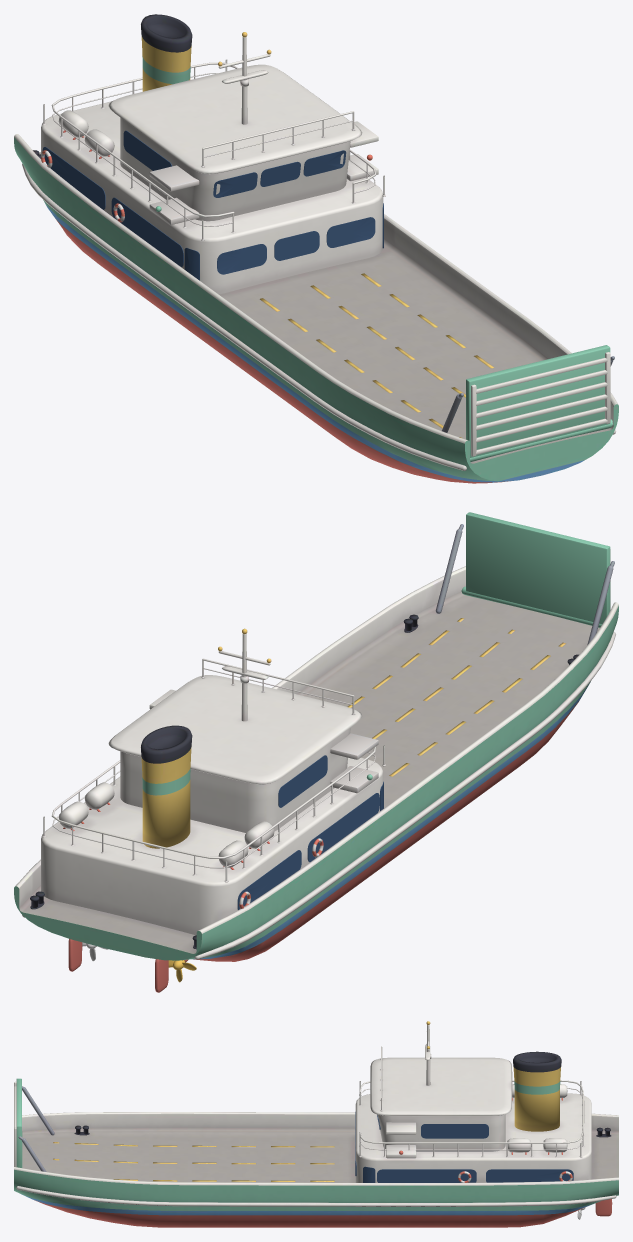
Rendered from ferry.glb.
The picture shows the model from 3 angles, top to bottom: view 1: azimuth 30°, elevation 25°; view 2: azimuth 150°, elevation 25°; view 3: azimuth 270°, elevation 25°; orthographic projection. The views are drawn at different scales.
Visible parts, largest first — view 1: ferry_body, ferry_bow_ramp, ferry_windows; view 2: ferry_body, ferry_bow_ramp, ferry_windows; view 3: ferry_body, ferry_windows, ferry_bow_ramp.
Boxes of the visible parts, x1,y1,x2,y2 form: ferry_body: (14, 14, 618, 483); ferry_bow_ramp: (466, 345, 612, 461); ferry_windows: (42, 130, 383, 280); ferry_body: (14, 524, 618, 962); ferry_bow_ramp: (461, 512, 610, 627); ferry_windows: (237, 755, 383, 909); ferry_body: (14, 1021, 618, 1227); ferry_windows: (355, 1112, 573, 1182); ferry_bow_ramp: (14, 1078, 22, 1167).
Size of the model in its own units: 11.67 by 13.49 by 40.
Materials: 7 (1 with a texture image).
